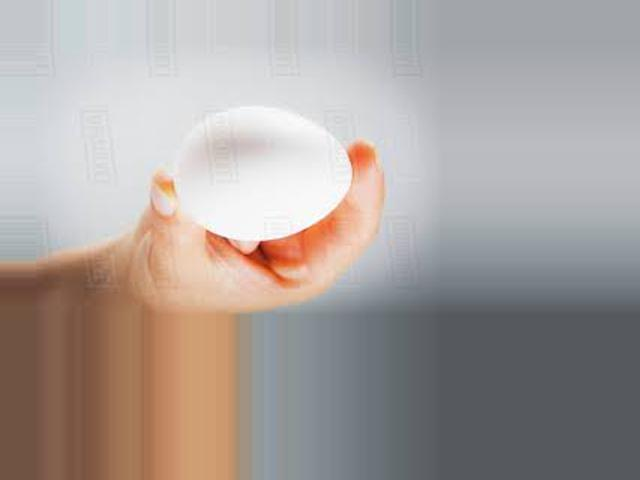egg: (173, 108, 353, 235)
